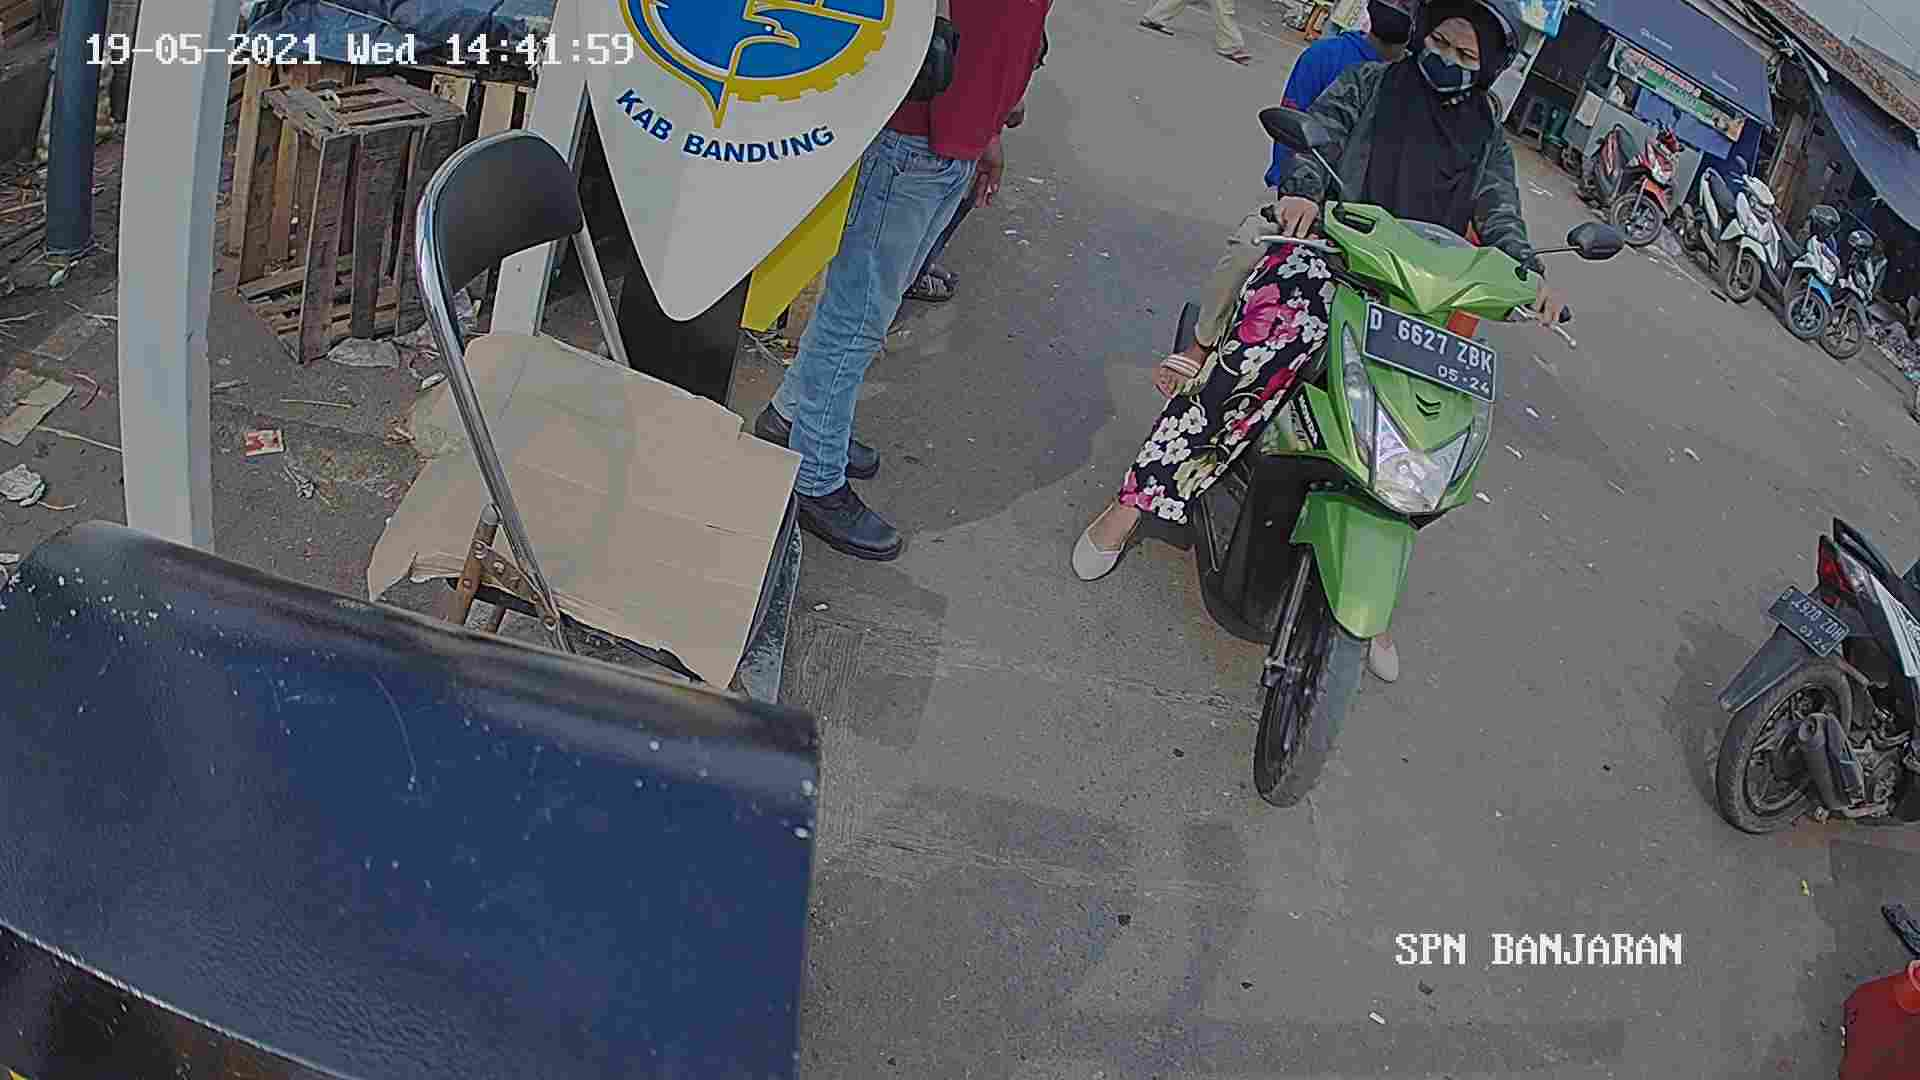motor: (1187, 208, 1542, 840), (1727, 495, 1920, 885)
